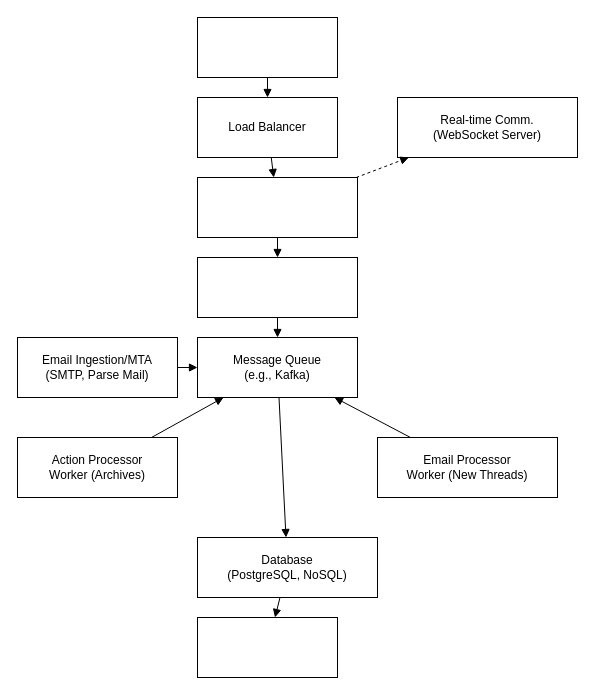
The diagram is 595 pixels wide and 695 high, and some of its shapes have lost their labels. Here are the shapes that lost their labels. From the top down, the box of each, then its label:
(196, 16, 338, 78): Client Apps (Web, Mobile)
(196, 176, 358, 238): API Gateway (Auth, Rate Limit)
(196, 256, 358, 318): API Servers (Business Logic)
(196, 616, 338, 678): Cache (e.g., Redis)
